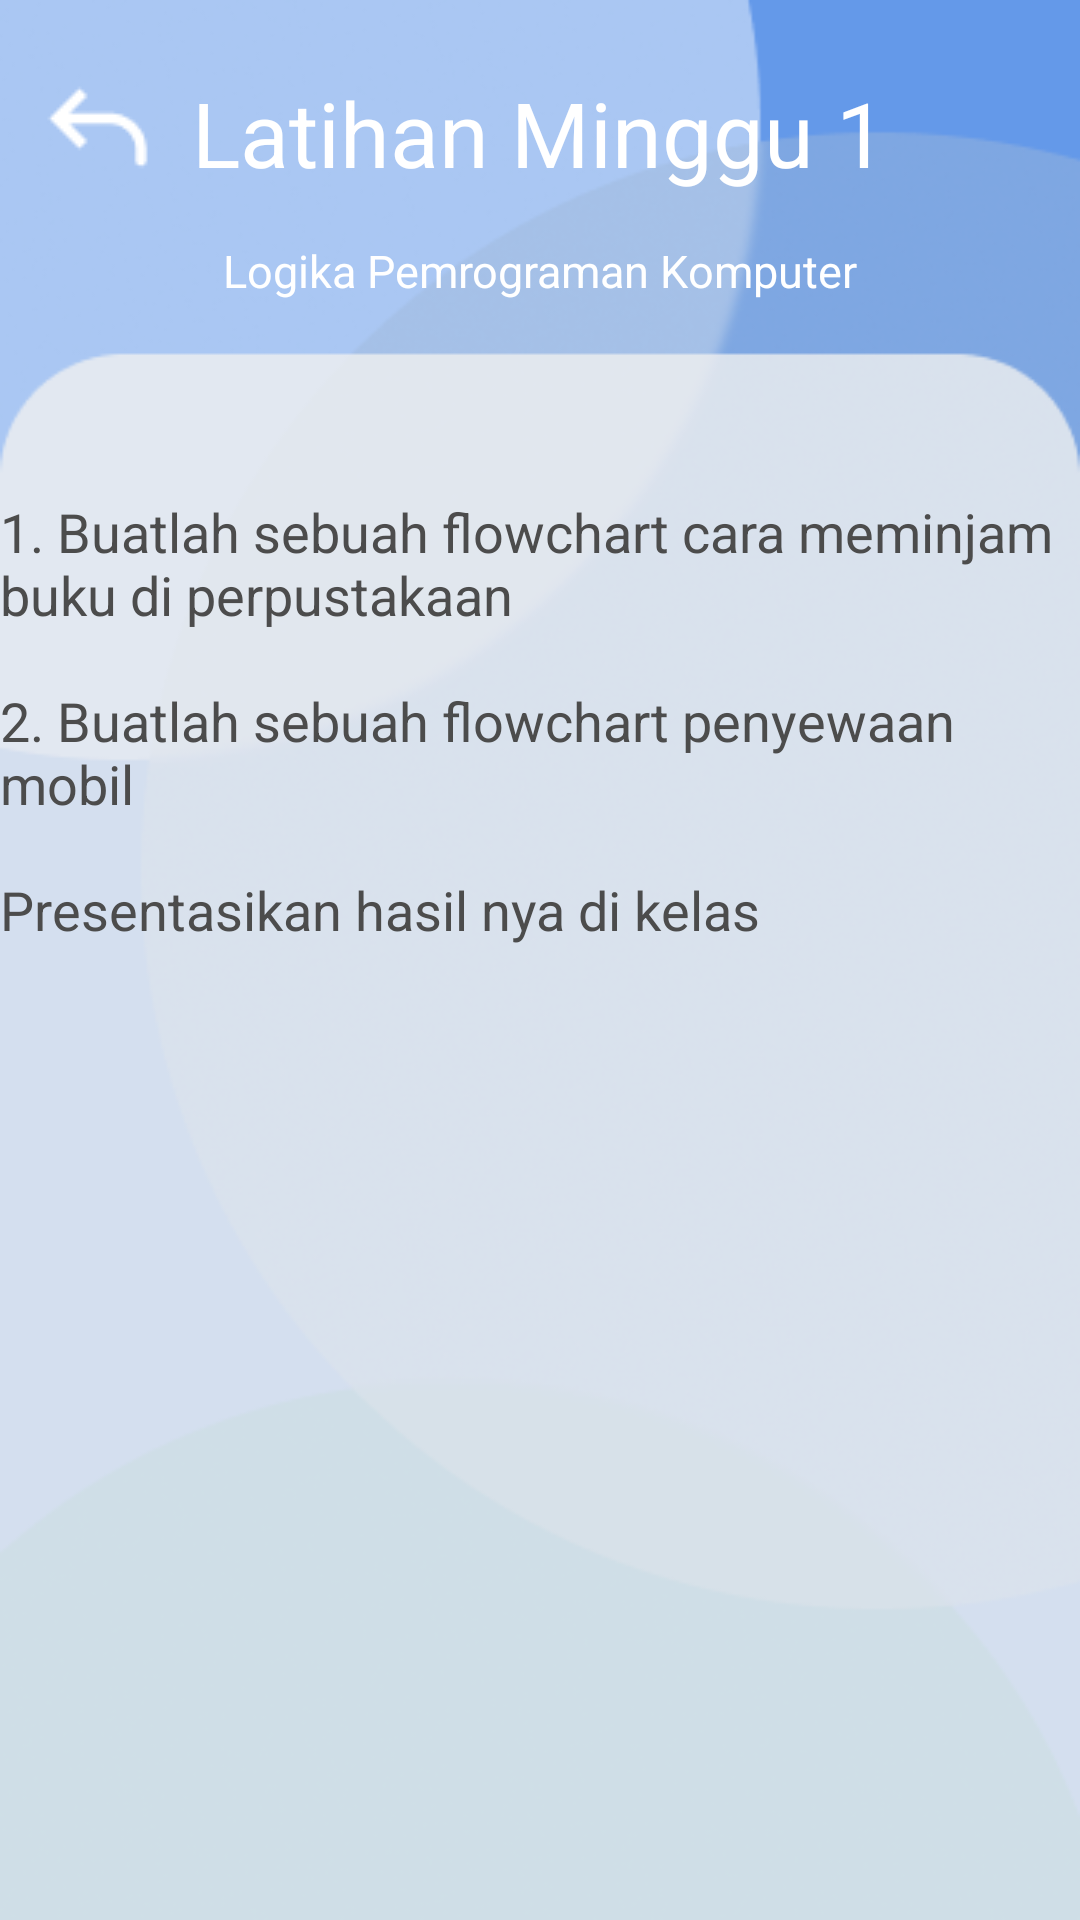

Named icons in this screenshot (1080×1920) and their centers, (x,y):
backbutton: (98,127)
